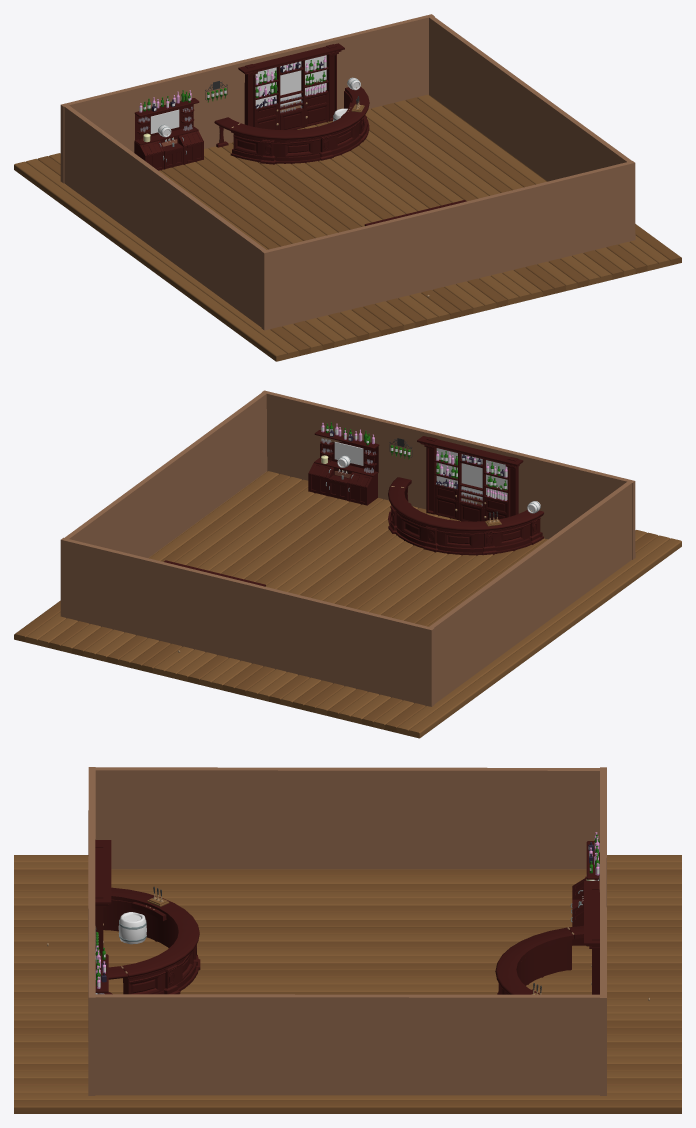
Rendered from background2.fbx.
The picture shows the model from 3 angles, top to bottom: view 1: azimuth 30°, elevation 25°; view 2: azimuth 150°, elevation 25°; view 3: azimuth 270°, elevation 25°; orthographic projection. The views are drawn at different scales.
Parts seen in each view (by area): view 1: WoodGround; view 2: WoodGround; view 3: WoodGround.
Boxes of the visible parts, bbox=[...] form: WoodGround: bbox=[14, 14, 681, 361]; WoodGround: bbox=[14, 390, 681, 738]; WoodGround: bbox=[14, 767, 681, 1113].
Size of the model in its own units: 3129 by 611 by 3503.
